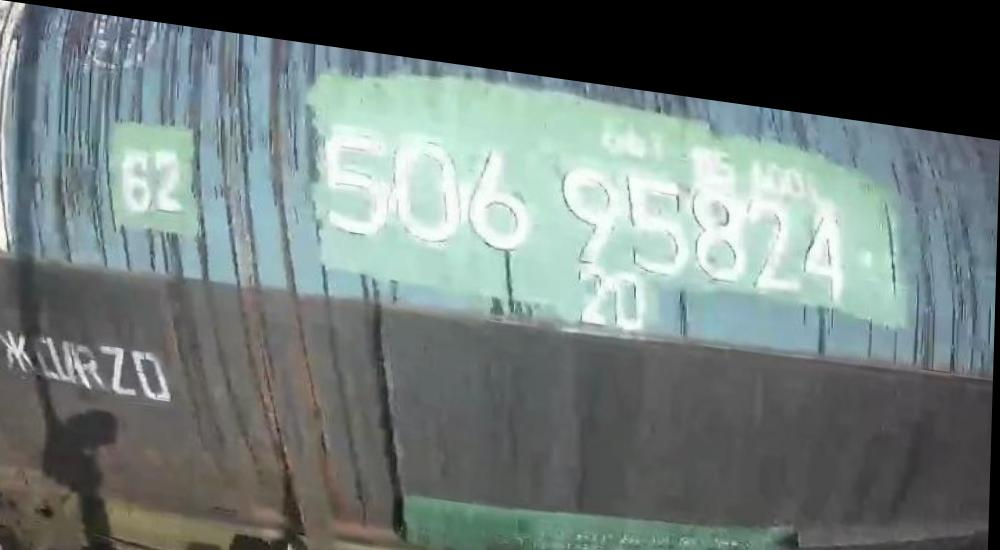Wagon-number: (316, 108, 854, 286)
